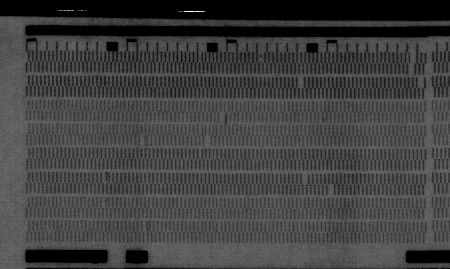Broken hole: (407, 52, 418, 77), (217, 110, 229, 124), (299, 172, 311, 186), (296, 75, 306, 90), (415, 76, 426, 89), (325, 184, 336, 197), (256, 52, 265, 66), (203, 137, 213, 147)
Oblique printing: (139, 220, 153, 235), (138, 135, 149, 149), (100, 172, 111, 183)
